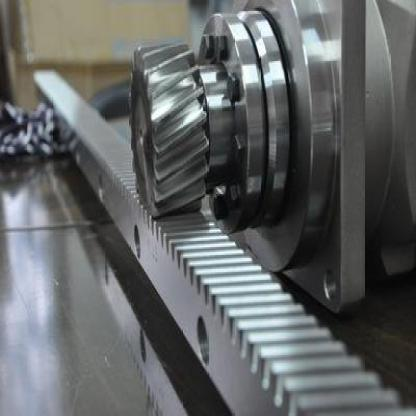FOD: (128, 38, 209, 220)
